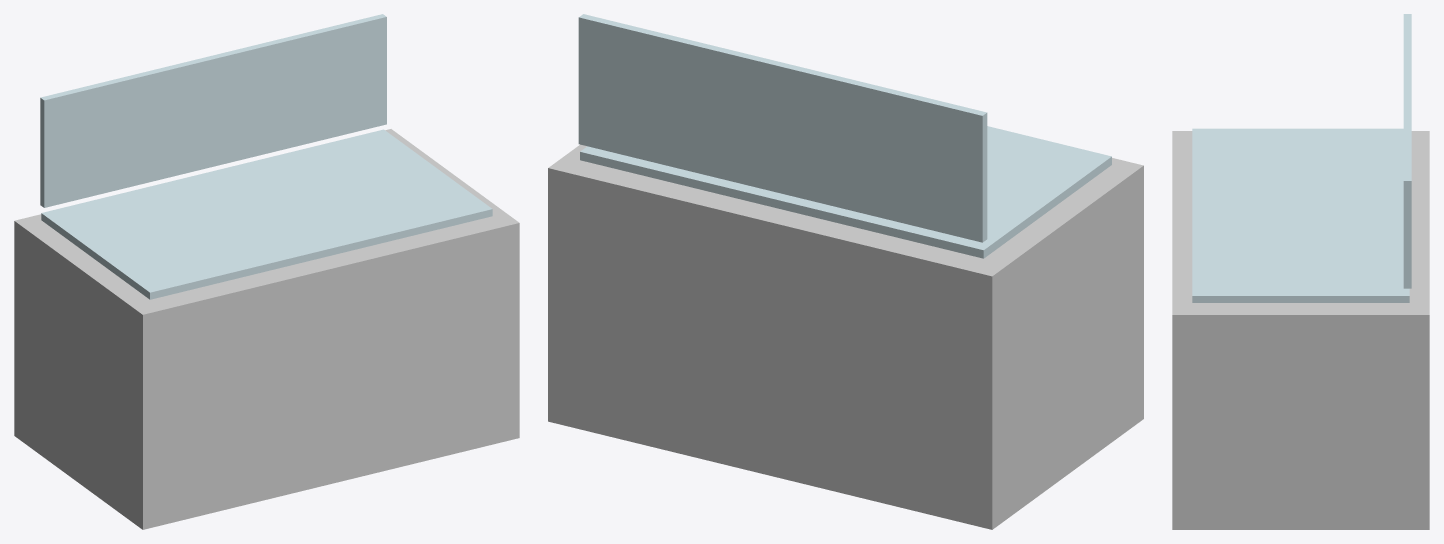
The model's file is ice_cream_case.glb.
3 renders of one model, left to right at view 1: azimuth 30°, elevation 25°; view 2: azimuth 150°, elevation 25°; view 3: azimuth 270°, elevation 25°, orthographic. The views are drawn at different scales.
Visible parts, largest first — view 1: body, glass_top, glass_back; view 2: body, glass_back, glass_top; view 3: body, glass_top, glass_back.
Boxes of the visible parts, box(x1,y1,x2,y2) form: body: box(14, 129, 519, 529); glass_top: box(41, 129, 492, 299); glass_back: box(40, 14, 386, 207); body: box(548, 144, 1143, 529); glass_back: box(578, 14, 987, 242); glass_top: box(580, 126, 1111, 258); body: box(1172, 131, 1429, 529); glass_top: box(1192, 128, 1409, 302); glass_back: box(1403, 14, 1411, 288).
Bounding box in the file's own units: 1.1 × 0.95 × 0.65.
